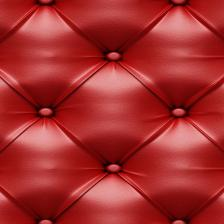red: (1, 0, 224, 224)
